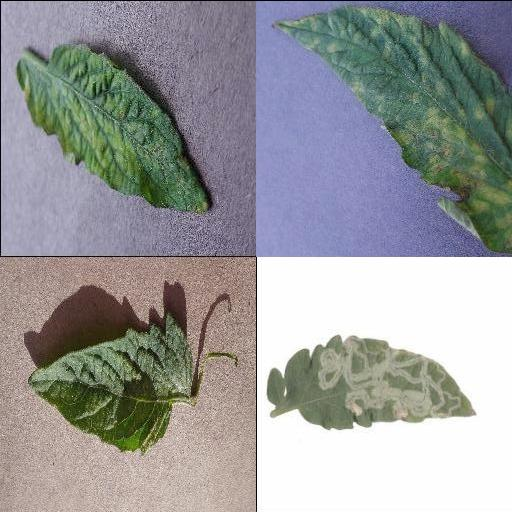Leaf Miner: (266, 332, 475, 430)
Leaf Mold: (268, 6, 512, 254)
Mosaic Virus: (13, 43, 211, 213)
Spider Mites: (27, 315, 193, 451)
